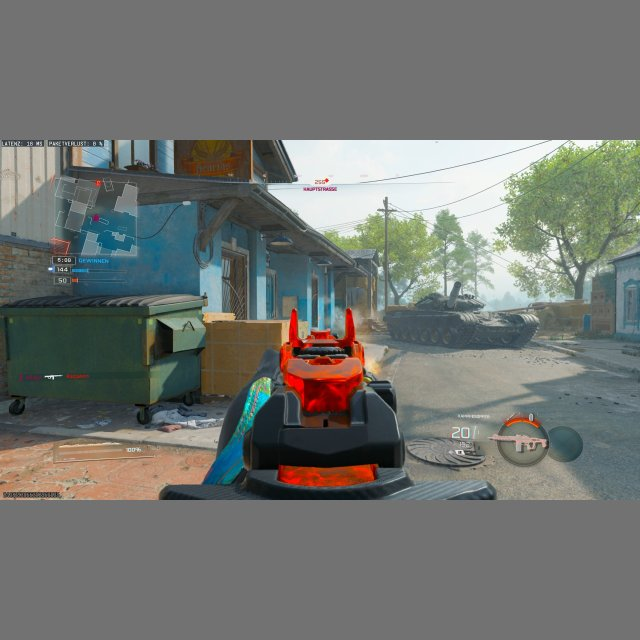player: (344, 308, 354, 339)
